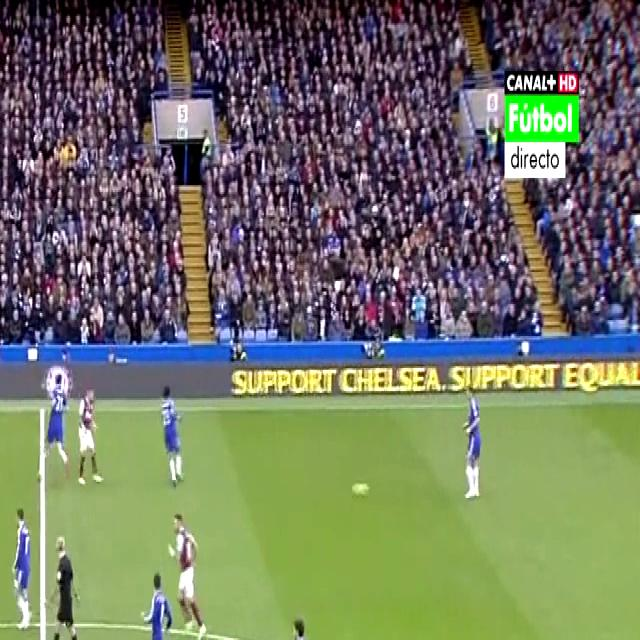ball: (350, 474, 373, 510)
referee: (41, 528, 87, 640)
soccer-player: (163, 508, 210, 640), (131, 563, 186, 640), (6, 500, 36, 629), (157, 378, 190, 493), (457, 383, 487, 509), (75, 378, 106, 496), (39, 362, 69, 482), (272, 601, 317, 640)
